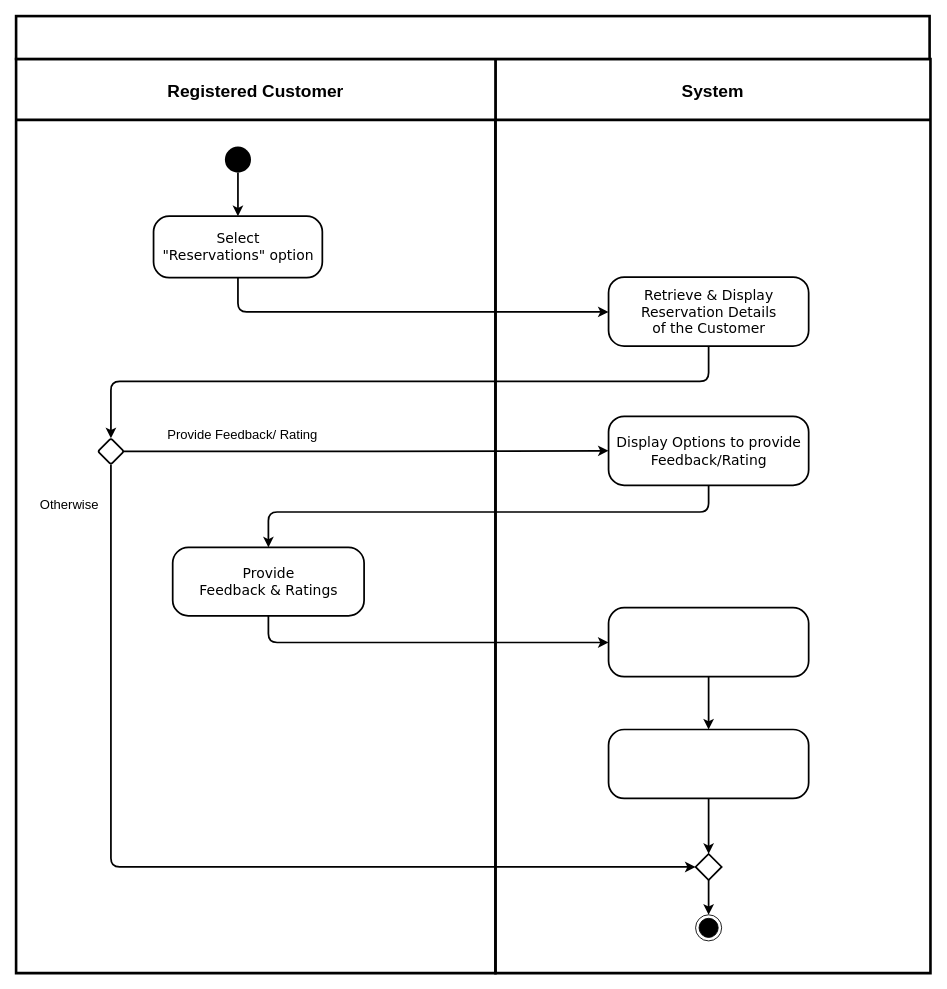
This 947x989 diagram has some shape labels left out. The shapes that lost their labels are listed below. From the top down, each one's centre as x and y in pixels, then its label:
At point 472,37: "View Reservations Log".
At point 708,641: "Store Ratings for the Employee".
At point 708,763: "Store Feedback for the Salon".
